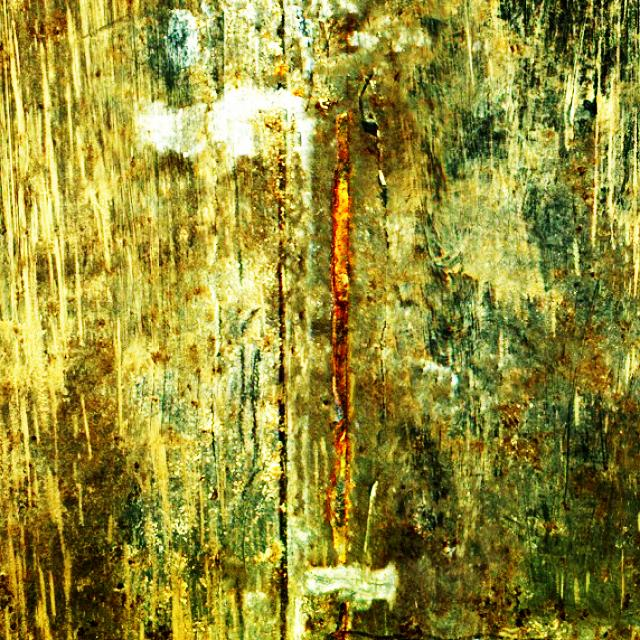Corrosion: (325, 114, 352, 563), (328, 602, 350, 640), (273, 62, 289, 77), (291, 88, 306, 98), (261, 33, 269, 38)
